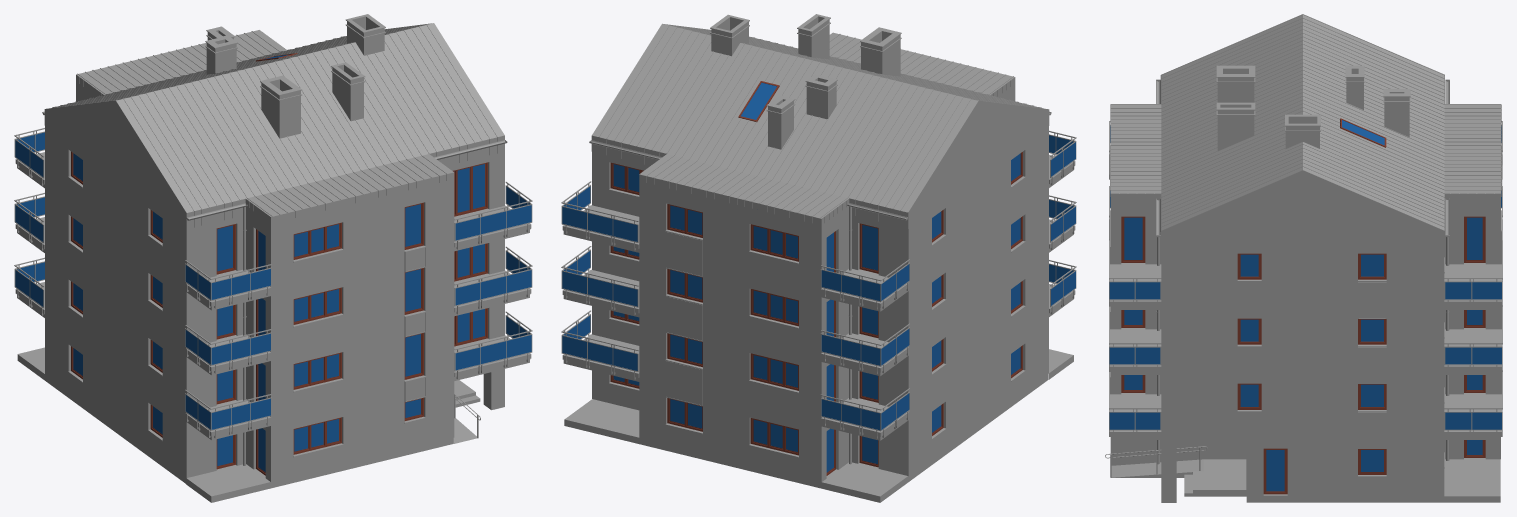
The model's file is building04.glb.
The picture shows the model from 3 angles, left to right: view 1: azimuth 30°, elevation 25°; view 2: azimuth 150°, elevation 25°; view 3: azimuth 270°, elevation 25°; orthographic projection.
Visible parts, largest first — view 1: building_walls.13, roof.9, foundation_wall.14, window_005.15, barrels.10, chimney.4, balcony.12, metal_cover.11, terrace.2, boards.7, eneter_floor.5, gutters_003.1; view 2: building_walls.13, roof.9, foundation_wall.14, window_005.15, barrels.10, chimney.4, balcony.12, terrace.2, boards_001.6, metal_cover.11, window_roof.17, gutters_003.1; view 3: building_walls.13, roof.9, foundation_wall.14, window_005.15, barrels.10, balcony.12, chimney.4, boards_001.6, eneter_floor.5, terrace.2, metal_cover.11, roof_plate.8 (+3 smaller).
Part boxes in pixels (x1,y1,x2,y2): building_walls.13: (45,81,504,417); roof.9: (44,23,504,229); foundation_wall.14: (45,310,454,488); window_005.15: (68,151,487,475); barrels.10: (14,128,532,438); chimney.4: (205,14,385,138); balcony.12: (17,152,529,440); metal_cover.11: (15,152,531,436); terrace.2: (17,347,270,502); boards.7: (404,246,426,402); eneter_floor.5: (453,380,480,443); gutters_003.1: (42,111,507,220); building_walls.13: (592,84,1048,417); roof.9: (591,23,1049,228); foundation_wall.14: (592,309,1048,488); window_005.15: (609,152,1025,475); barrels.10: (561,130,1076,438); chimney.4: (710,14,901,149); balcony.12: (563,155,1073,440); terrace.2: (564,349,1073,502); boards_001.6: (665,232,702,406); metal_cover.11: (562,155,1075,436); window_roof.17: (738,81,779,121); gutters_003.1: (589,111,1051,220); building_walls.13: (1110,179,1500,502); roof.9: (1110,14,1501,246); foundation_wall.14: (1110,431,1500,502); window_005.15: (1110,165,1502,496); barrels.10: (1109,121,1502,438); balcony.12: (1110,263,1500,439); chimney.4: (1216,65,1410,151); boards_001.6: (1358,213,1501,448); eneter_floor.5: (1111,459,1246,496); terrace.2: (1444,458,1500,502); metal_cover.11: (1109,145,1501,436); roof_plate.8: (1110,193,1500,200).
Bounding box in the file's own units: 15.55 × 16.11 × 16.63.
